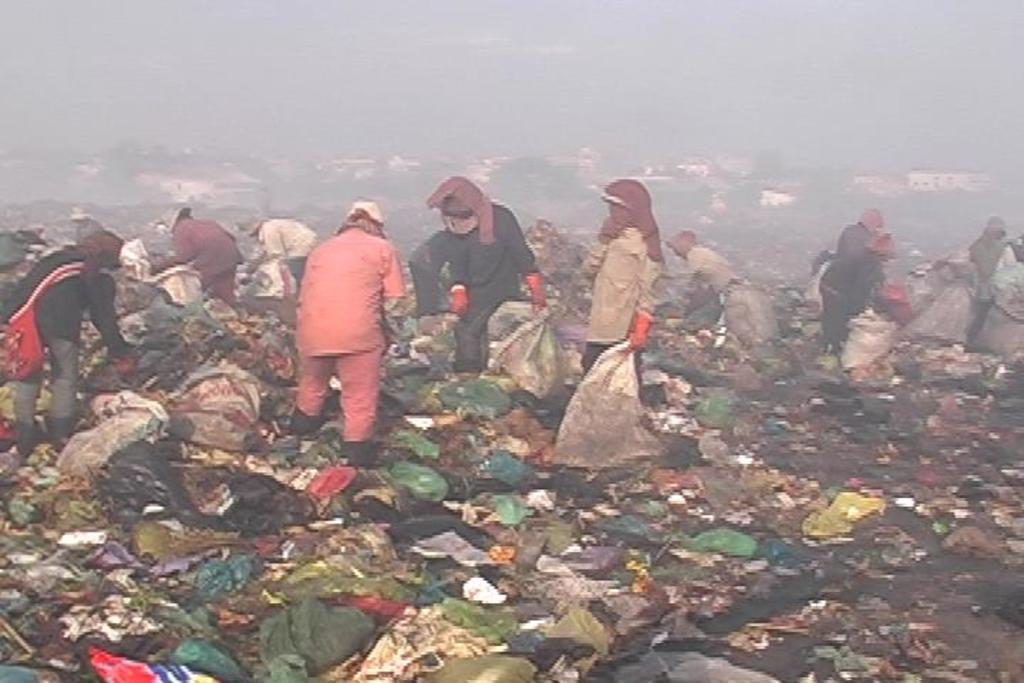Person: (0, 174, 1024, 464)
